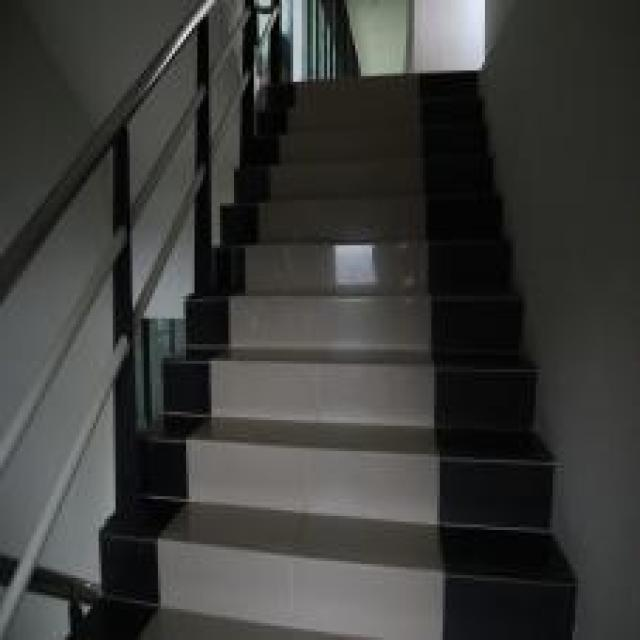upstair: (263, 83, 517, 638)
